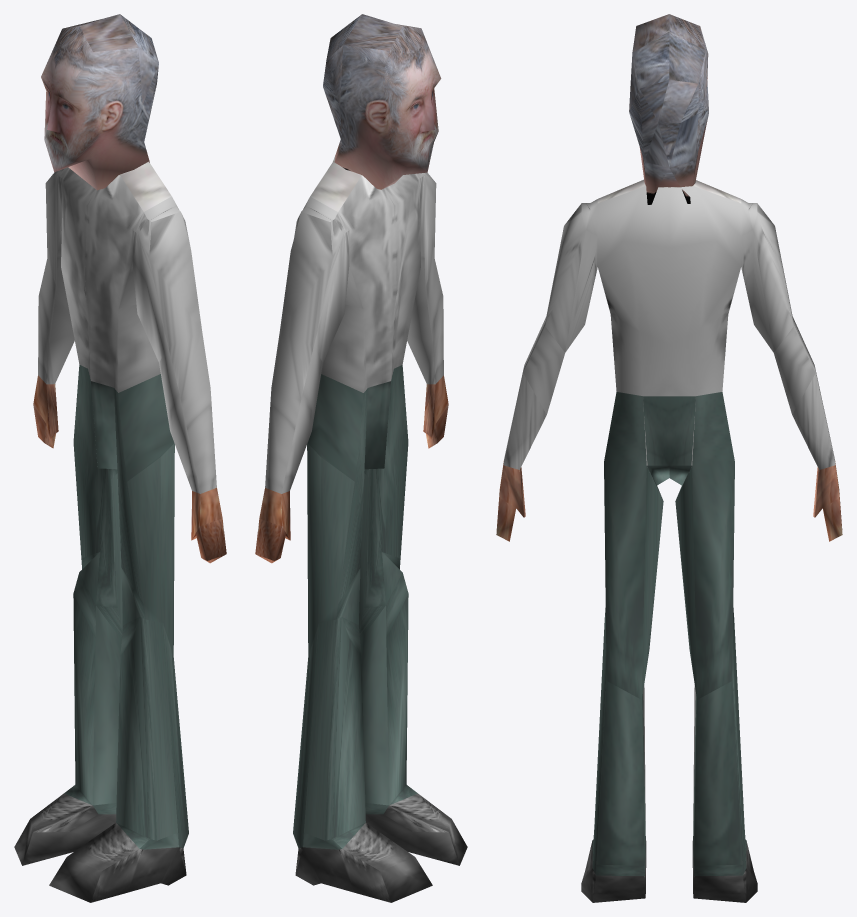
Rendered from pharmacist.glb.
The picture shows the model from 3 angles, left to right: view 1: azimuth 30°, elevation 25°; view 2: azimuth 150°, elevation 25°; view 3: azimuth 270°, elevation 25°; orthographic projection.
Parts seen in each view (by area): view 1: Body; view 2: Body; view 3: Body.
Part boxes in pixels (<box>): Body: <box>14,14,226,902</box>; Body: <box>255,14,467,902</box>; Body: <box>496,14,842,902</box>.
Bounding box in the file's own units: 0.2706 × 1.81 × 0.6603.
2 materials, 2 textured.
